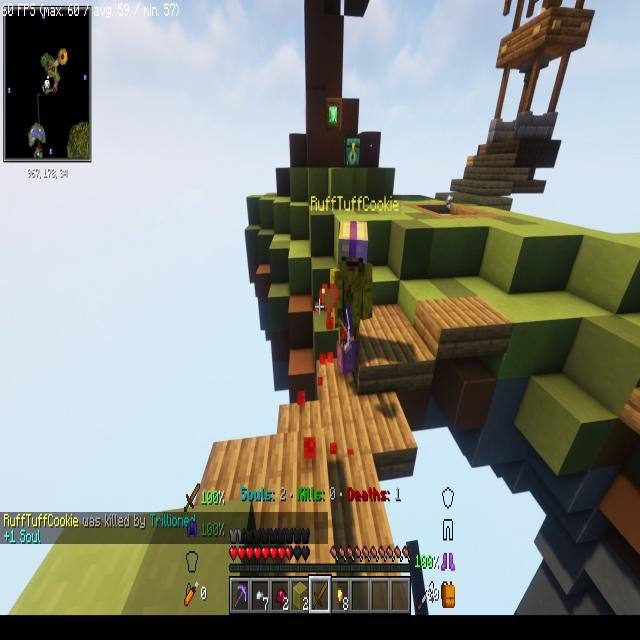Player: (318, 216, 382, 391)
